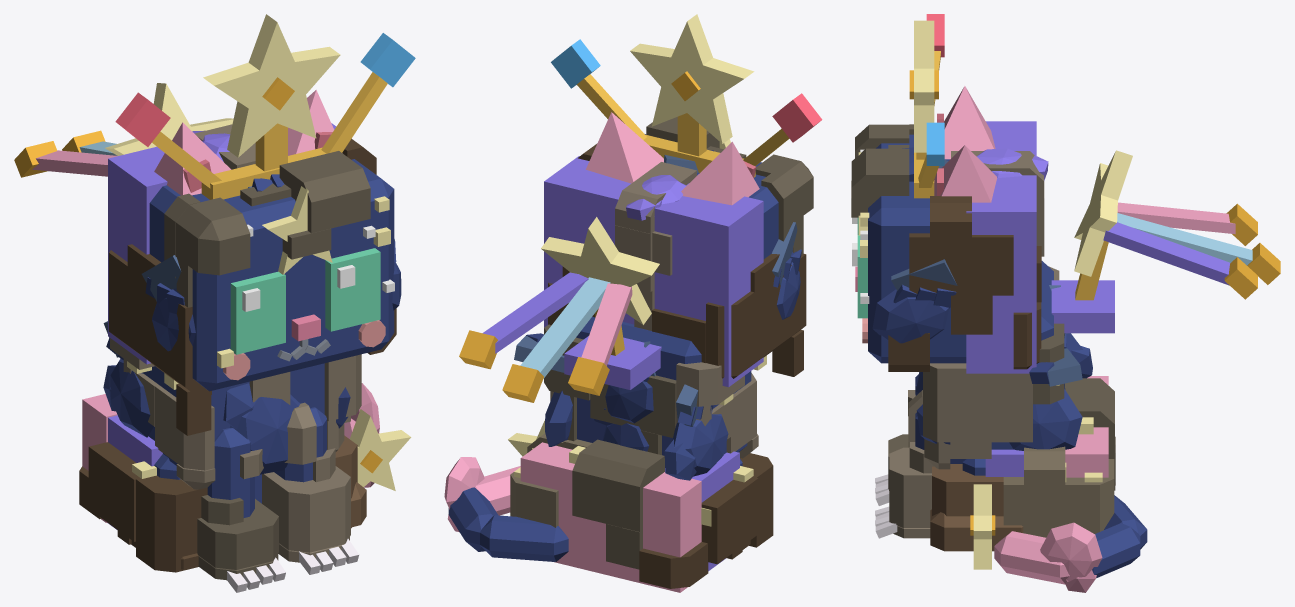
Rendered from CleanACat_Cat_Stardust_Dirty_Sit.fbx.
3 views of the same model, side by side, from view 1: azimuth 30°, elevation 25°; view 2: azimuth 150°, elevation 25°; view 3: azimuth 270°, elevation 25° (orthographic). The views are drawn at different scales.
Parts seen in each view (by area): view 1: CleanACat_Cat_Stardust_Dirty_Sit_Head, CleanACat_Cat_Stardust_Dirty_Sit_Prop, CleanACat_Cat_Stardust_Dirty_Sit_Mud01, CleanACat_Cat_Stardust_Dirty_Sit_Mud03, CleanACat_Cat_Stardust_Dirty_Sit_Mud17, CleanACat_Cat_Stardust_Dirty_Sit_Body, CleanACat_Cat_Stardust_Dirty_Sit_Mud06, CleanACat_Cat_Stardust_Dirty_Sit_Mud16, CleanACat_Cat_Stardust_Dirty_Sit_Mud18, CleanACat_Cat_Stardust_Dirty_Sit_Mud14, CleanACat_Cat_Stardust_Dirty_Sit_Eye1, CleanACat_Cat_Stardust_Dirty_Sit_Eye2 (+21 smaller); view 2: CleanACat_Cat_Stardust_Dirty_Sit_Head, CleanACat_Cat_Stardust_Dirty_Sit_Body, CleanACat_Cat_Stardust_Dirty_Sit_Prop2, CleanACat_Cat_Stardust_Dirty_Sit_Prop, CleanACat_Cat_Stardust_Dirty_Sit_Mud01, CleanACat_Cat_Stardust_Dirty_Sit_Mud13, CleanACat_Cat_Stardust_Dirty_Sit_Tail, CleanACat_Cat_Stardust_Dirty_Sit_Mud14, CleanACat_Cat_Stardust_Dirty_Sit_Mud04, CleanACat_Cat_Stardust_Dirty_Sit_Mud09, CleanACat_Cat_Stardust_Dirty_Sit_Comet_Glow, CleanACat_Cat_Stardust_Dirty_Sit_Mud06 (+18 smaller); view 3: CleanACat_Cat_Stardust_Dirty_Sit_Head, CleanACat_Cat_Stardust_Dirty_Sit_Prop2, CleanACat_Cat_Stardust_Dirty_Sit_Mud02, CleanACat_Cat_Stardust_Dirty_Sit_Mud08, CleanACat_Cat_Stardust_Dirty_Sit_Mud12, CleanACat_Cat_Stardust_Dirty_Sit_Tail, CleanACat_Cat_Stardust_Dirty_Sit_Body, CleanACat_Cat_Stardust_Dirty_Sit_Mud15, CleanACat_Cat_Stardust_Dirty_Sit_Mud17, CleanACat_Cat_Stardust_Dirty_Sit_Prop, CleanACat_Cat_Stardust_Dirty_Sit_Mud03, CleanACat_Cat_Stardust_Dirty_Sit_Fluff01 (+17 smaller).
Part boxes in pixels (x1=…): CleanACat_Cat_Stardust_Dirty_Sit_Head: x1=108, y1=123, x2=394, y2=391; CleanACat_Cat_Stardust_Dirty_Sit_Prop: x1=152, y1=14, x2=387, y2=199; CleanACat_Cat_Stardust_Dirty_Sit_Mud01: x1=109, y1=244, x2=211, y2=435; CleanACat_Cat_Stardust_Dirty_Sit_Mud03: x1=240, y1=151, x2=370, y2=259; CleanACat_Cat_Stardust_Dirty_Sit_Mud17: x1=262, y1=448, x2=350, y2=562; CleanACat_Cat_Stardust_Dirty_Sit_Body: x1=82, y1=361, x2=324, y2=529; CleanACat_Cat_Stardust_Dirty_Sit_Mud06: x1=164, y1=193, x2=250, y2=307; CleanACat_Cat_Stardust_Dirty_Sit_Mud16: x1=131, y1=475, x2=207, y2=572; CleanACat_Cat_Stardust_Dirty_Sit_Mud18: x1=197, y1=495, x2=278, y2=580; CleanACat_Cat_Stardust_Dirty_Sit_Mud14: x1=79, y1=442, x2=140, y2=544; CleanACat_Cat_Stardust_Dirty_Sit_Eye1: x1=325, y1=248, x2=380, y2=331; CleanACat_Cat_Stardust_Dirty_Sit_Eye2: x1=230, y1=271, x2=285, y2=354; CleanACat_Cat_Stardust_Dirty_Sit_Head: x1=544, y1=134, x2=778, y2=387; CleanACat_Cat_Stardust_Dirty_Sit_Body: x1=514, y1=316, x2=766, y2=592; CleanACat_Cat_Stardust_Dirty_Sit_Prop2: x1=482, y1=217, x2=661, y2=389; CleanACat_Cat_Stardust_Dirty_Sit_Prop: x1=576, y1=14, x2=789, y2=177; CleanACat_Cat_Stardust_Dirty_Sit_Mud01: x1=652, y1=253, x2=806, y2=378; CleanACat_Cat_Stardust_Dirty_Sit_Mud13: x1=572, y1=439, x2=664, y2=569; CleanACat_Cat_Stardust_Dirty_Sit_Tail: x1=448, y1=466, x2=568, y2=561; CleanACat_Cat_Stardust_Dirty_Sit_Mud14: x1=639, y1=476, x2=758, y2=588; CleanACat_Cat_Stardust_Dirty_Sit_Mud04: x1=615, y1=162, x2=696, y2=330; CleanACat_Cat_Stardust_Dirty_Sit_Mud09: x1=544, y1=324, x2=676, y2=454; CleanACat_Cat_Stardust_Dirty_Sit_Comet_Glow: x1=459, y1=330, x2=609, y2=402; CleanACat_Cat_Stardust_Dirty_Sit_Mud06: x1=755, y1=154, x2=813, y2=254; CleanACat_Cat_Stardust_Dirty_Sit_Head: x1=855, y1=121, x2=1036, y2=373; CleanACat_Cat_Stardust_Dirty_Sit_Prop2: x1=1051, y1=150, x2=1252, y2=333; CleanACat_Cat_Stardust_Dirty_Sit_Mud02: x1=888, y1=196, x2=1013, y2=371; CleanACat_Cat_Stardust_Dirty_Sit_Mud08: x1=923, y1=363, x2=1032, y2=469; CleanACat_Cat_Stardust_Dirty_Sit_Mud12: x1=1003, y1=446, x2=1114, y2=537; CleanACat_Cat_Stardust_Dirty_Sit_Tail: x1=994, y1=495, x2=1147, y2=584; CleanACat_Cat_Stardust_Dirty_Sit_Body: x1=950, y1=261, x2=1108, y2=482; CleanACat_Cat_Stardust_Dirty_Sit_Mud15: x1=930, y1=464, x2=1023, y2=551; CleanACat_Cat_Stardust_Dirty_Sit_Mud17: x1=889, y1=442, x2=934, y2=538; CleanACat_Cat_Stardust_Dirty_Sit_Prop: x1=914, y1=20, x2=940, y2=198; CleanACat_Cat_Stardust_Dirty_Sit_Mud03: x1=851, y1=145, x2=909, y2=217; CleanACat_Cat_Stardust_Dirty_Sit_Fluff01: x1=872, y1=289, x2=950, y2=343.
Bounding box in the file's own units: 1.45 × 2.3 × 1.81.
Materials: 1 (1 with a texture image).
